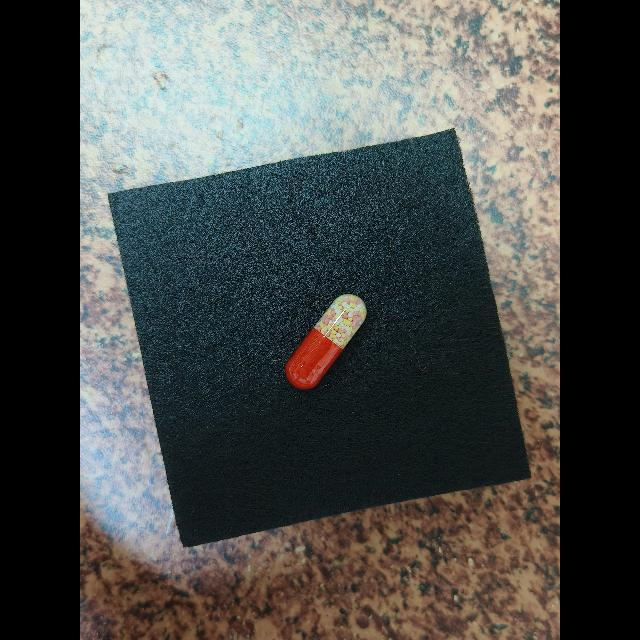Intact Capsule: (285, 294, 367, 389)
